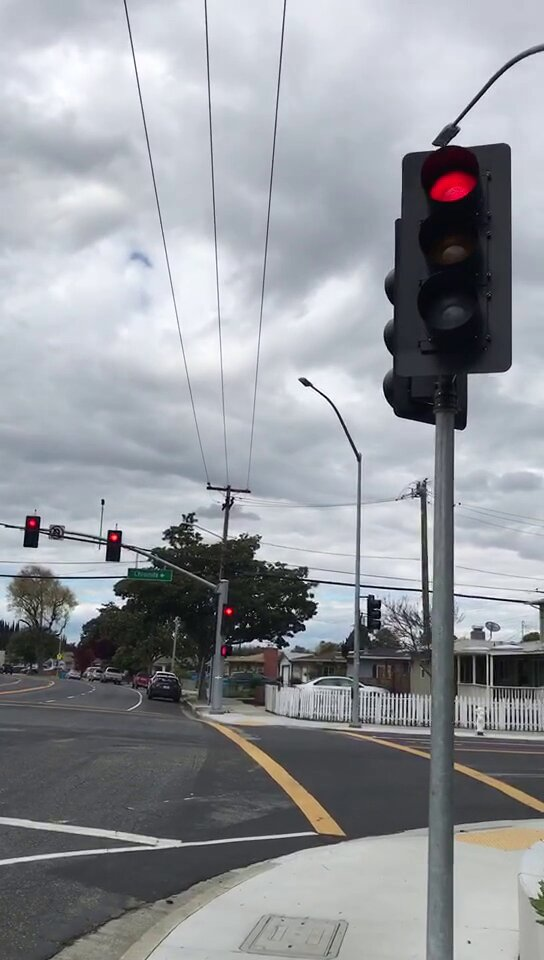red_light: (402, 153, 510, 370), (24, 516, 39, 545), (107, 529, 121, 559), (222, 602, 236, 632)
